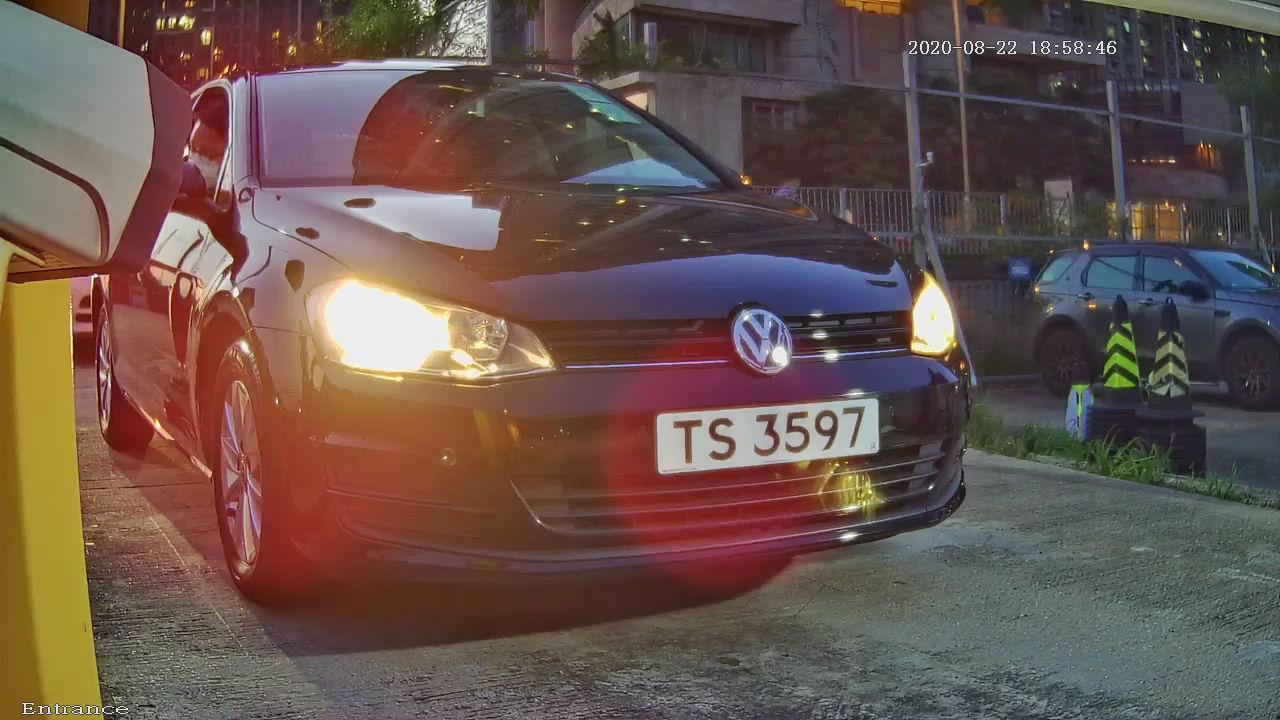Car: (92, 17, 1075, 631)
License Plate: (625, 364, 938, 521)
